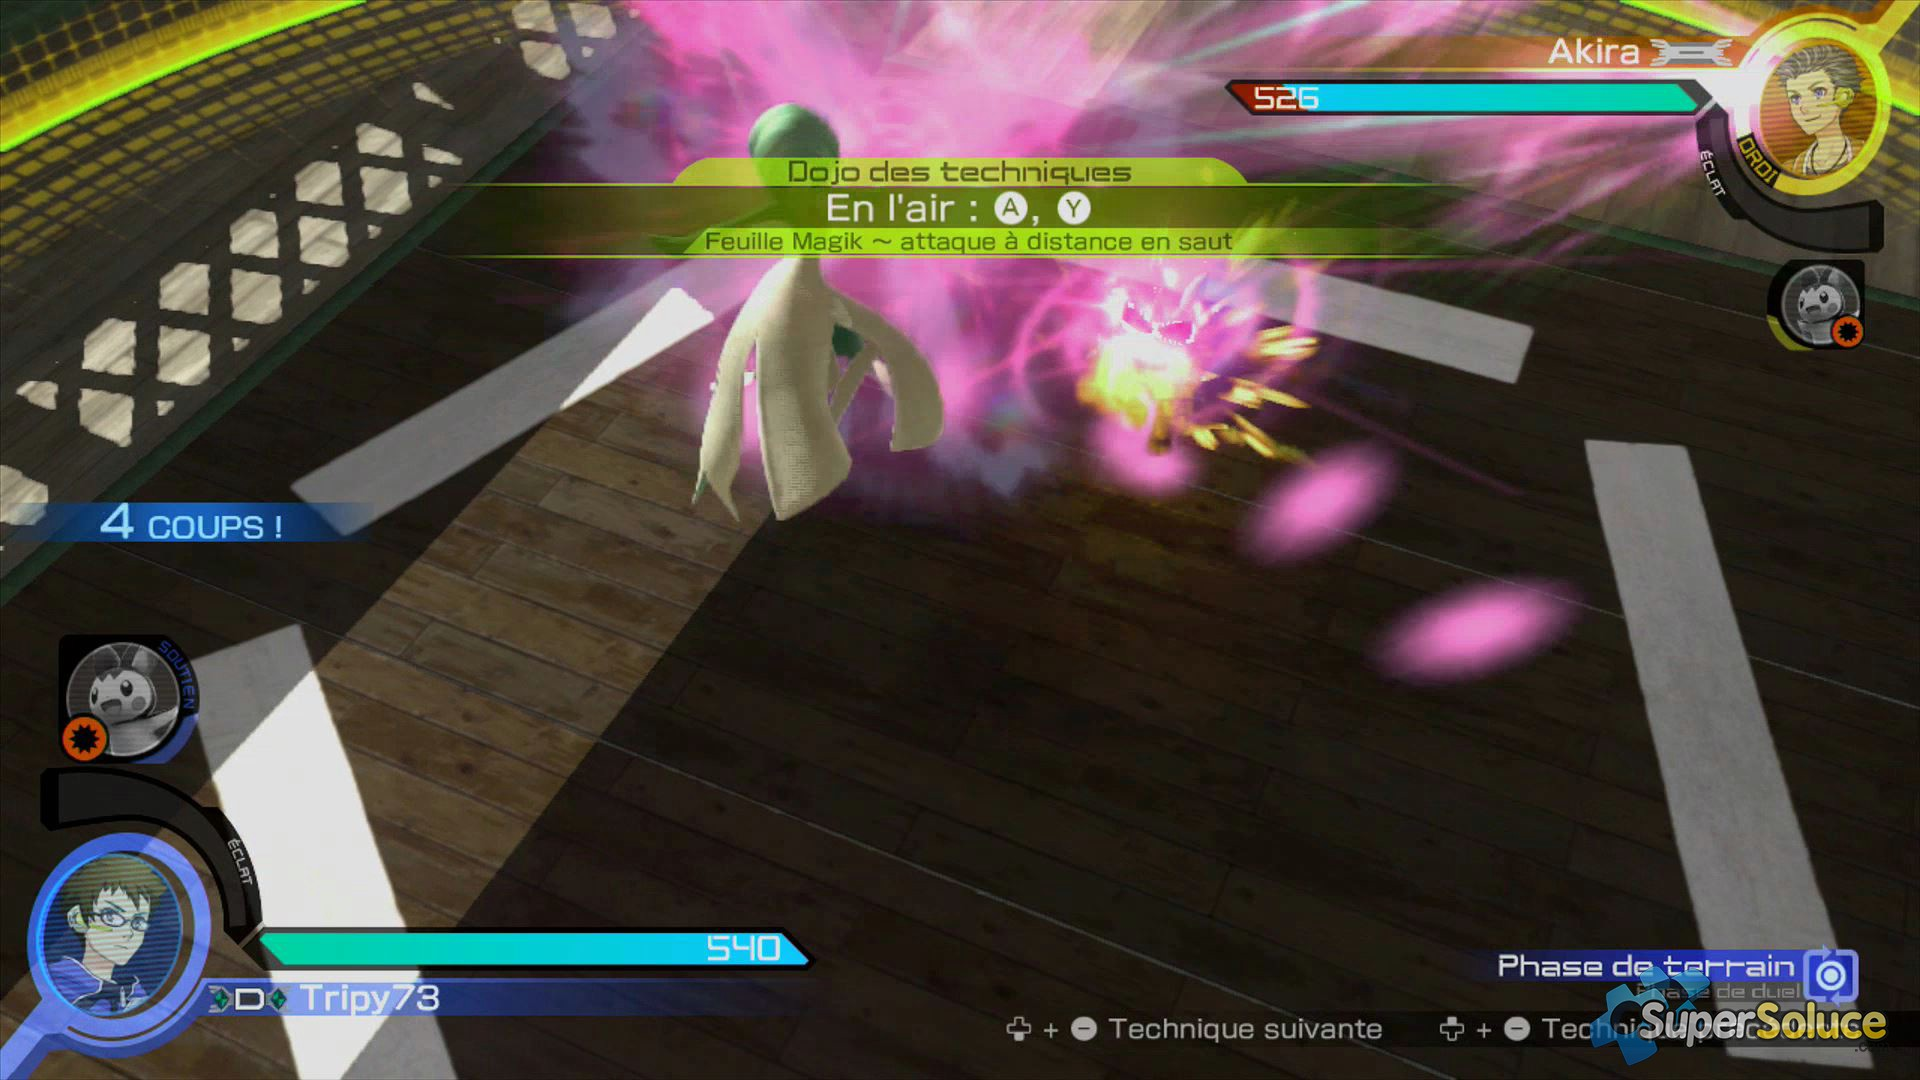gardevoir: (634, 108, 956, 541)
